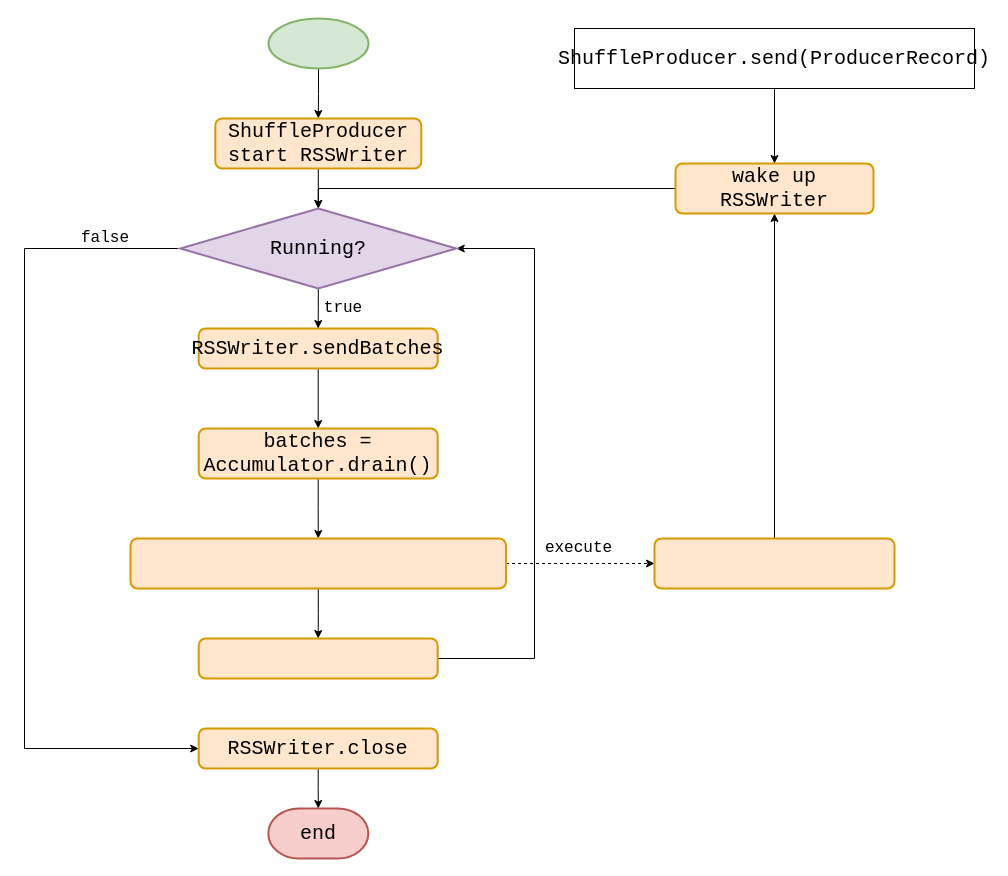
Image size: 1008x876. Some labels were removed from this diagram. Here are the shapes that lost their labels. From the top down, the box of each, then its label:
(267, 17, 369, 69): start
(129, 537, 506, 589): batches.foreach(AsyncSendToHdfs)
(653, 537, 895, 589): RSSWriterWorker
(197, 637, 438, 679): waitForBatchesReady
